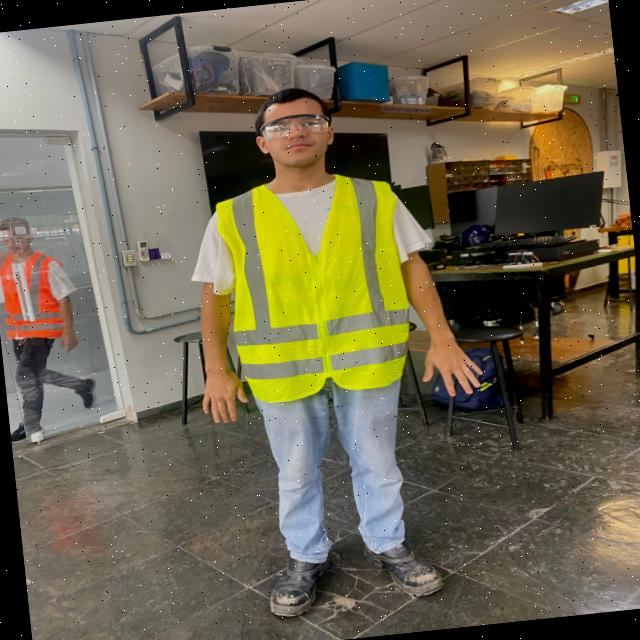BOTA: (354, 517, 451, 596), (268, 535, 332, 616)
COLETE: (210, 165, 414, 410), (0, 249, 66, 340)
OCULOS: (251, 106, 335, 143)
SEM BOTA: (11, 420, 43, 447), (75, 377, 96, 410)
SEM LUVA: (417, 331, 488, 399), (197, 367, 249, 428), (55, 328, 84, 355)
